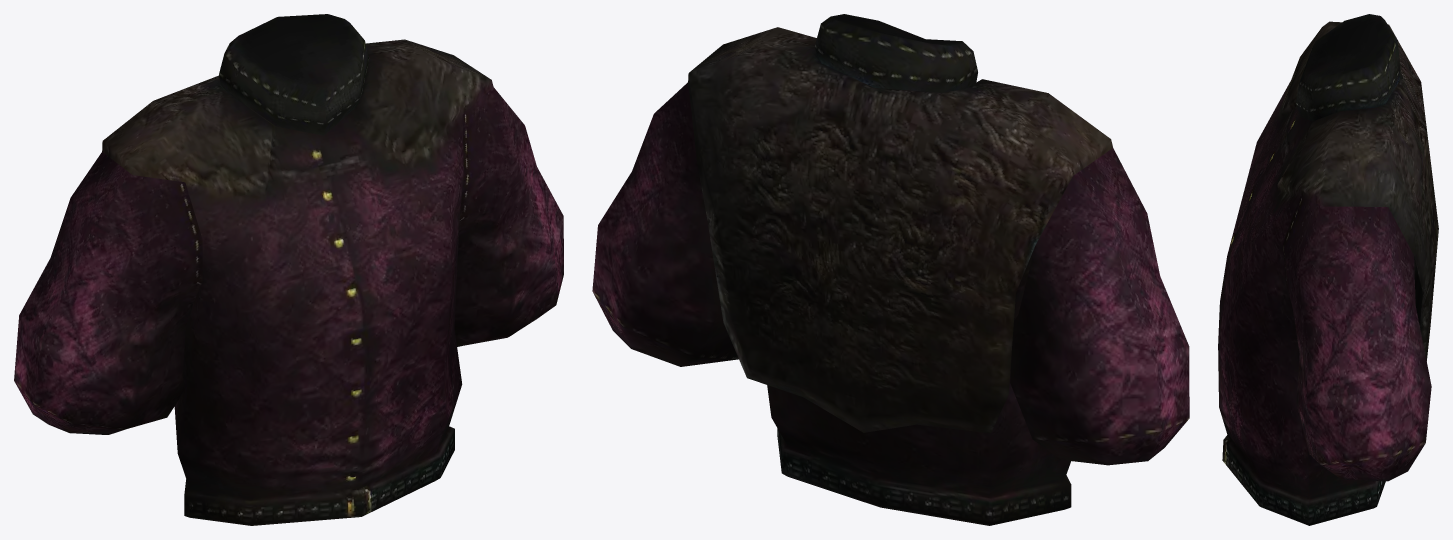
The model's file is STATIC_GS_HUM_ARMOR_RICH_MERCHANT_05.glb.
3 renders of one model, left to right at view 1: azimuth 30°, elevation 25°; view 2: azimuth 150°, elevation 25°; view 3: azimuth 270°, elevation 25°, orthographic. The views are drawn at different scales.
Parts seen in each view (by area): view 1: Mesh; view 2: Mesh; view 3: Mesh.
Boxes of the visible parts, x1,y1,x2,y2 form: Mesh: (14, 14, 563, 525); Mesh: (592, 14, 1189, 525); Mesh: (1218, 14, 1438, 525).
Size of the model in its own units: 0.7014 by 0.555 by 0.2581.
Materials: 1 (1 with a texture image).
